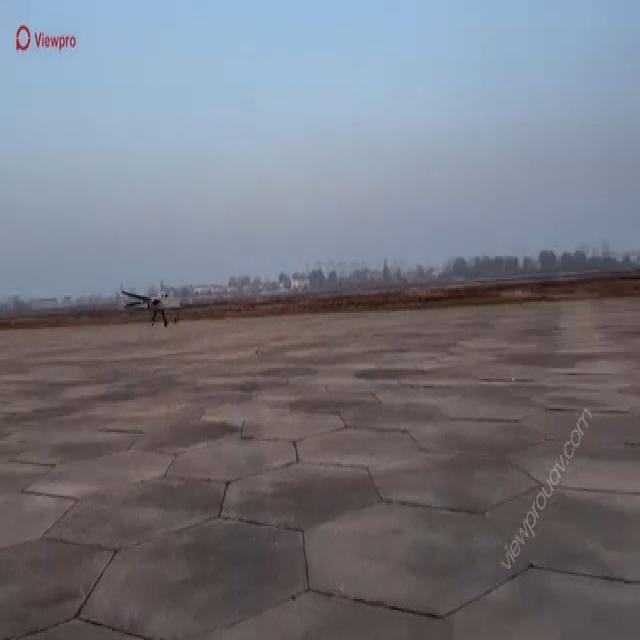drones: (114, 272, 210, 341)
